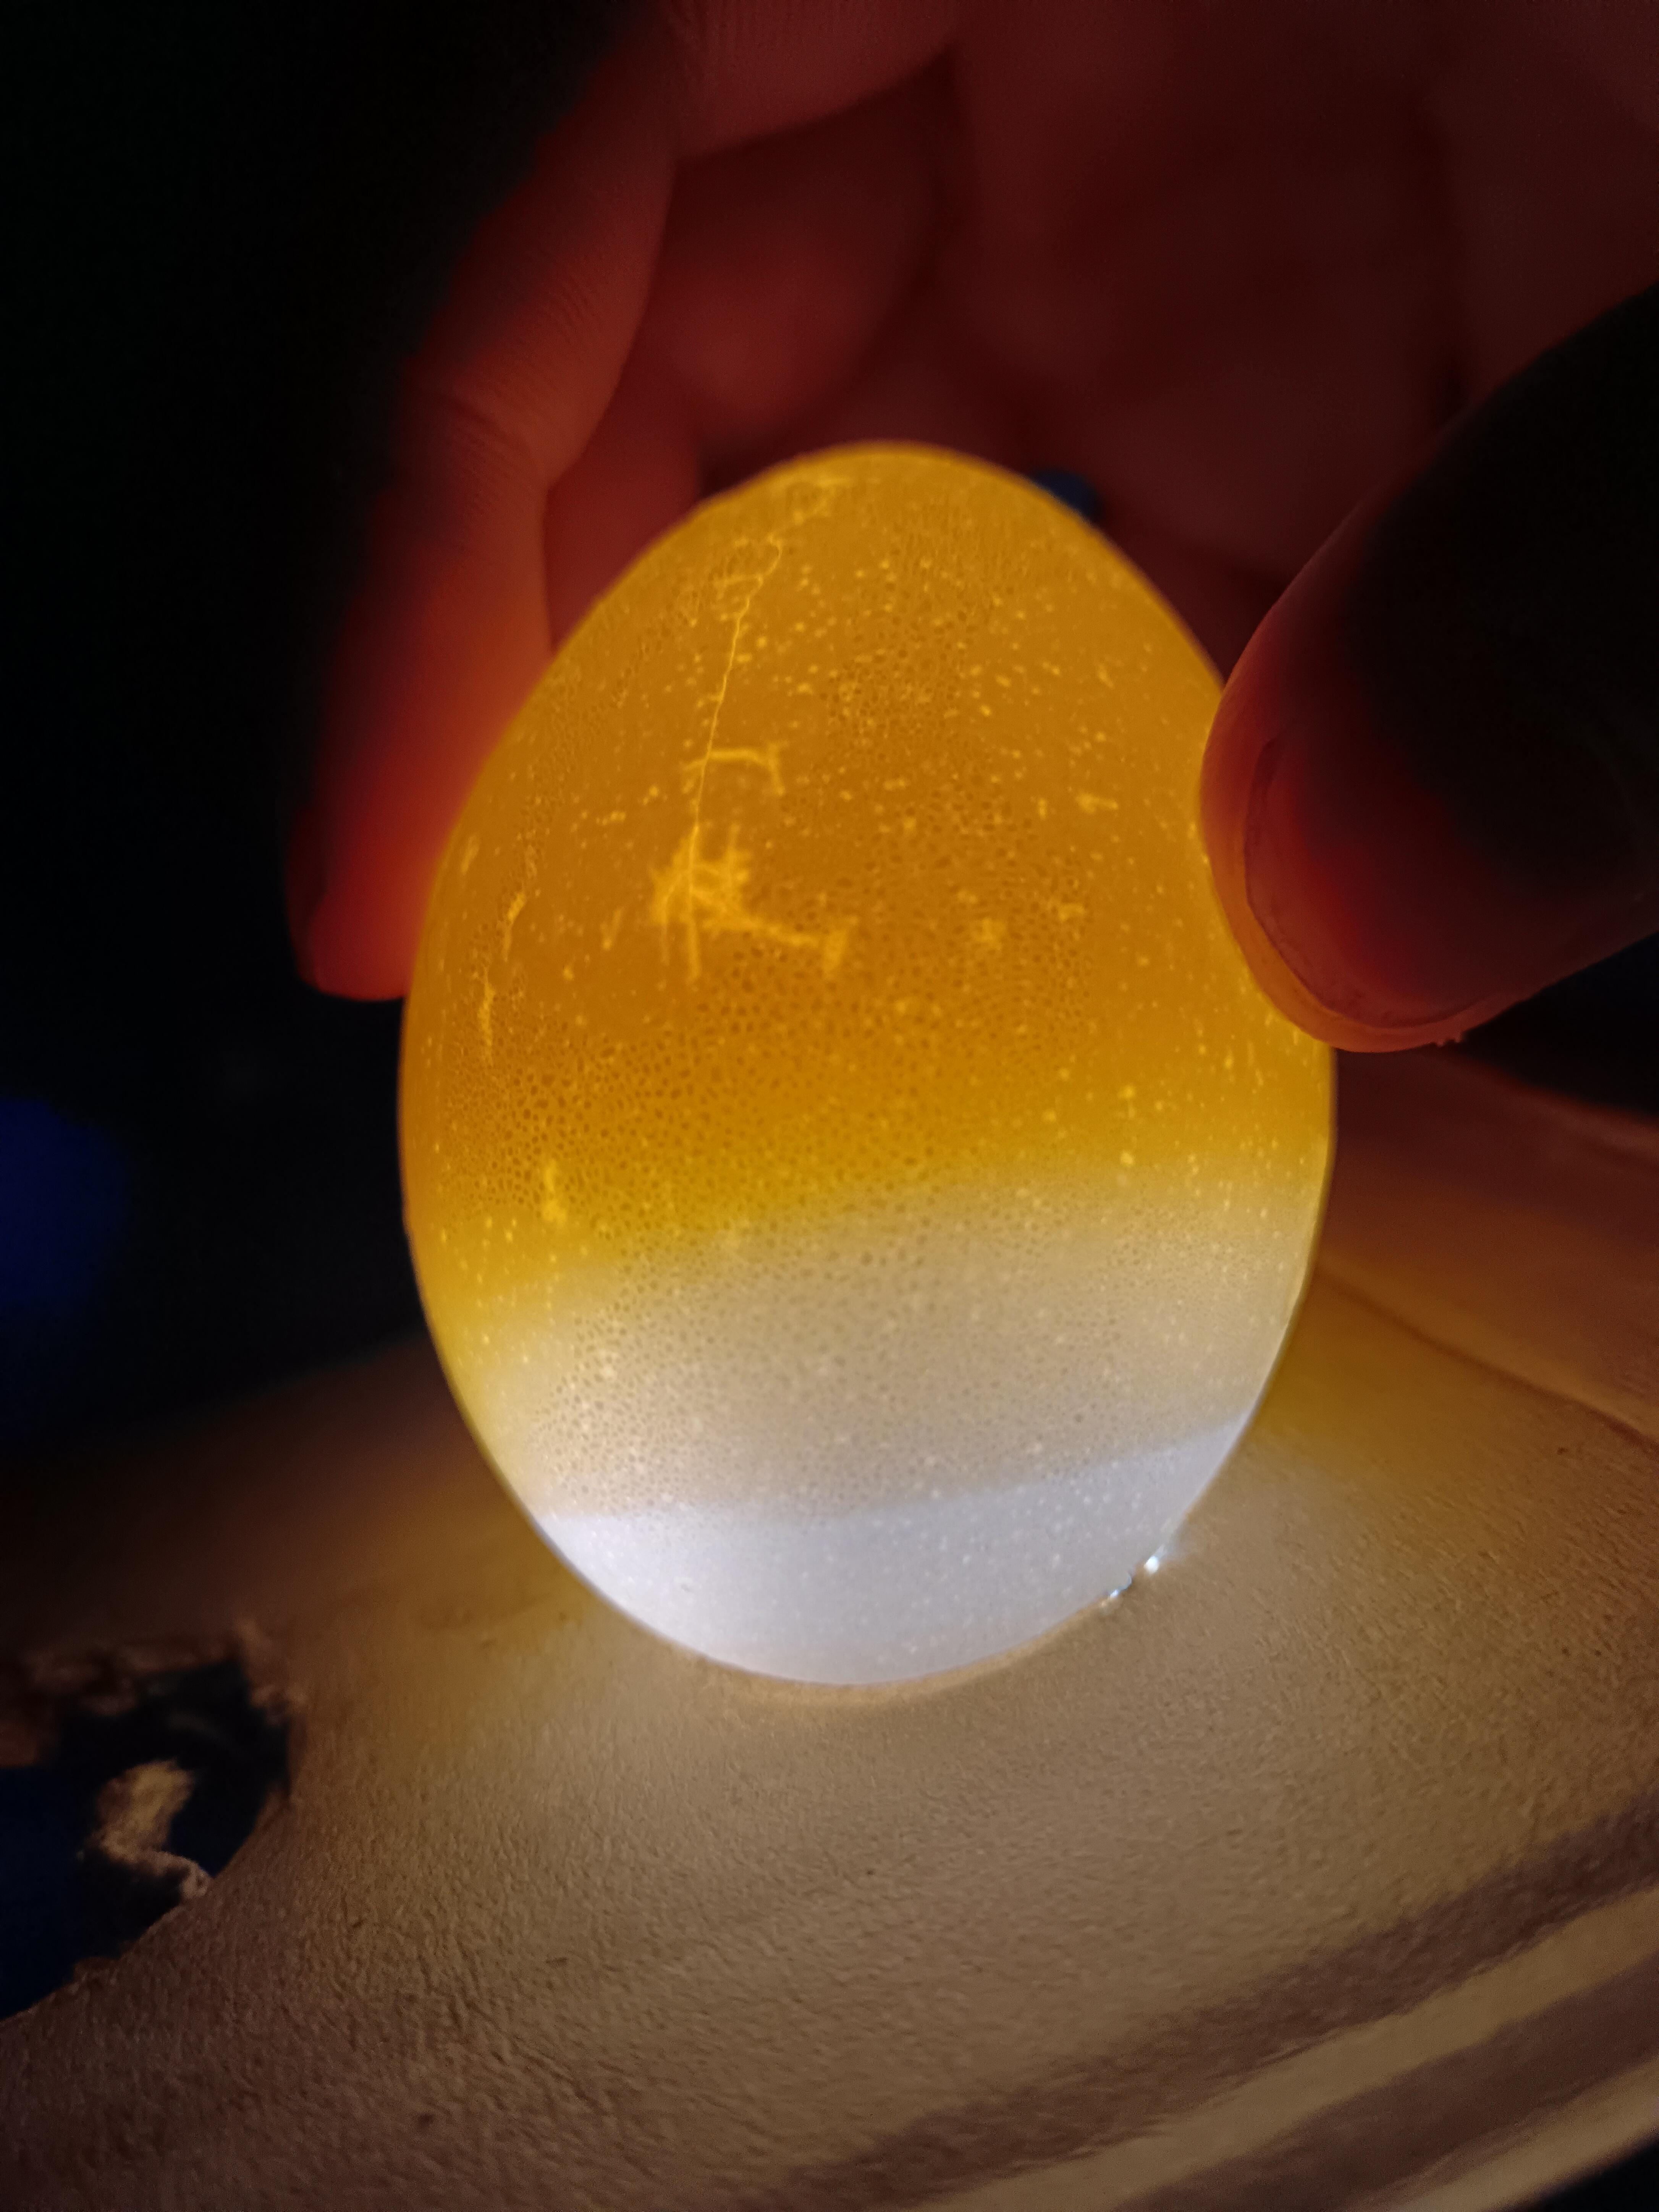B - Fair: (378, 413, 1349, 1684)
